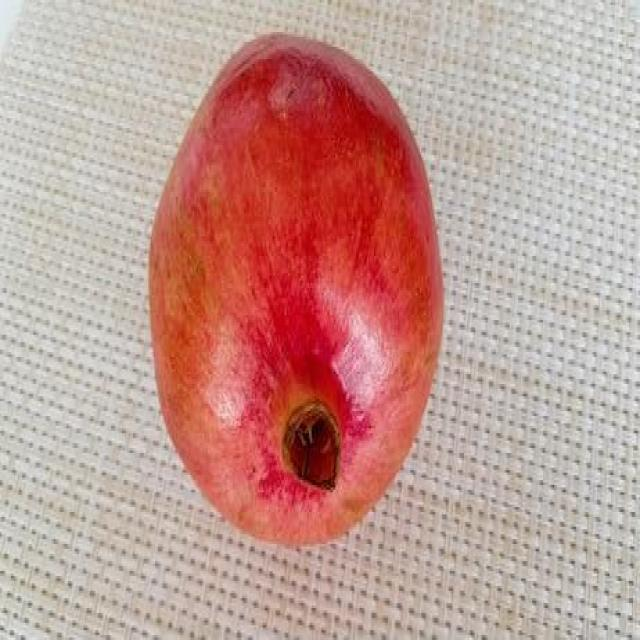Pomegranate: (148, 26, 446, 553)
